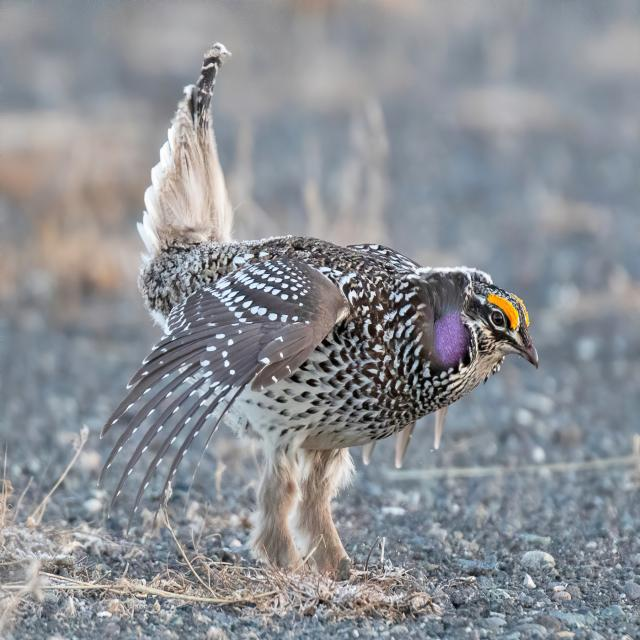bird: (95, 42, 540, 580)
